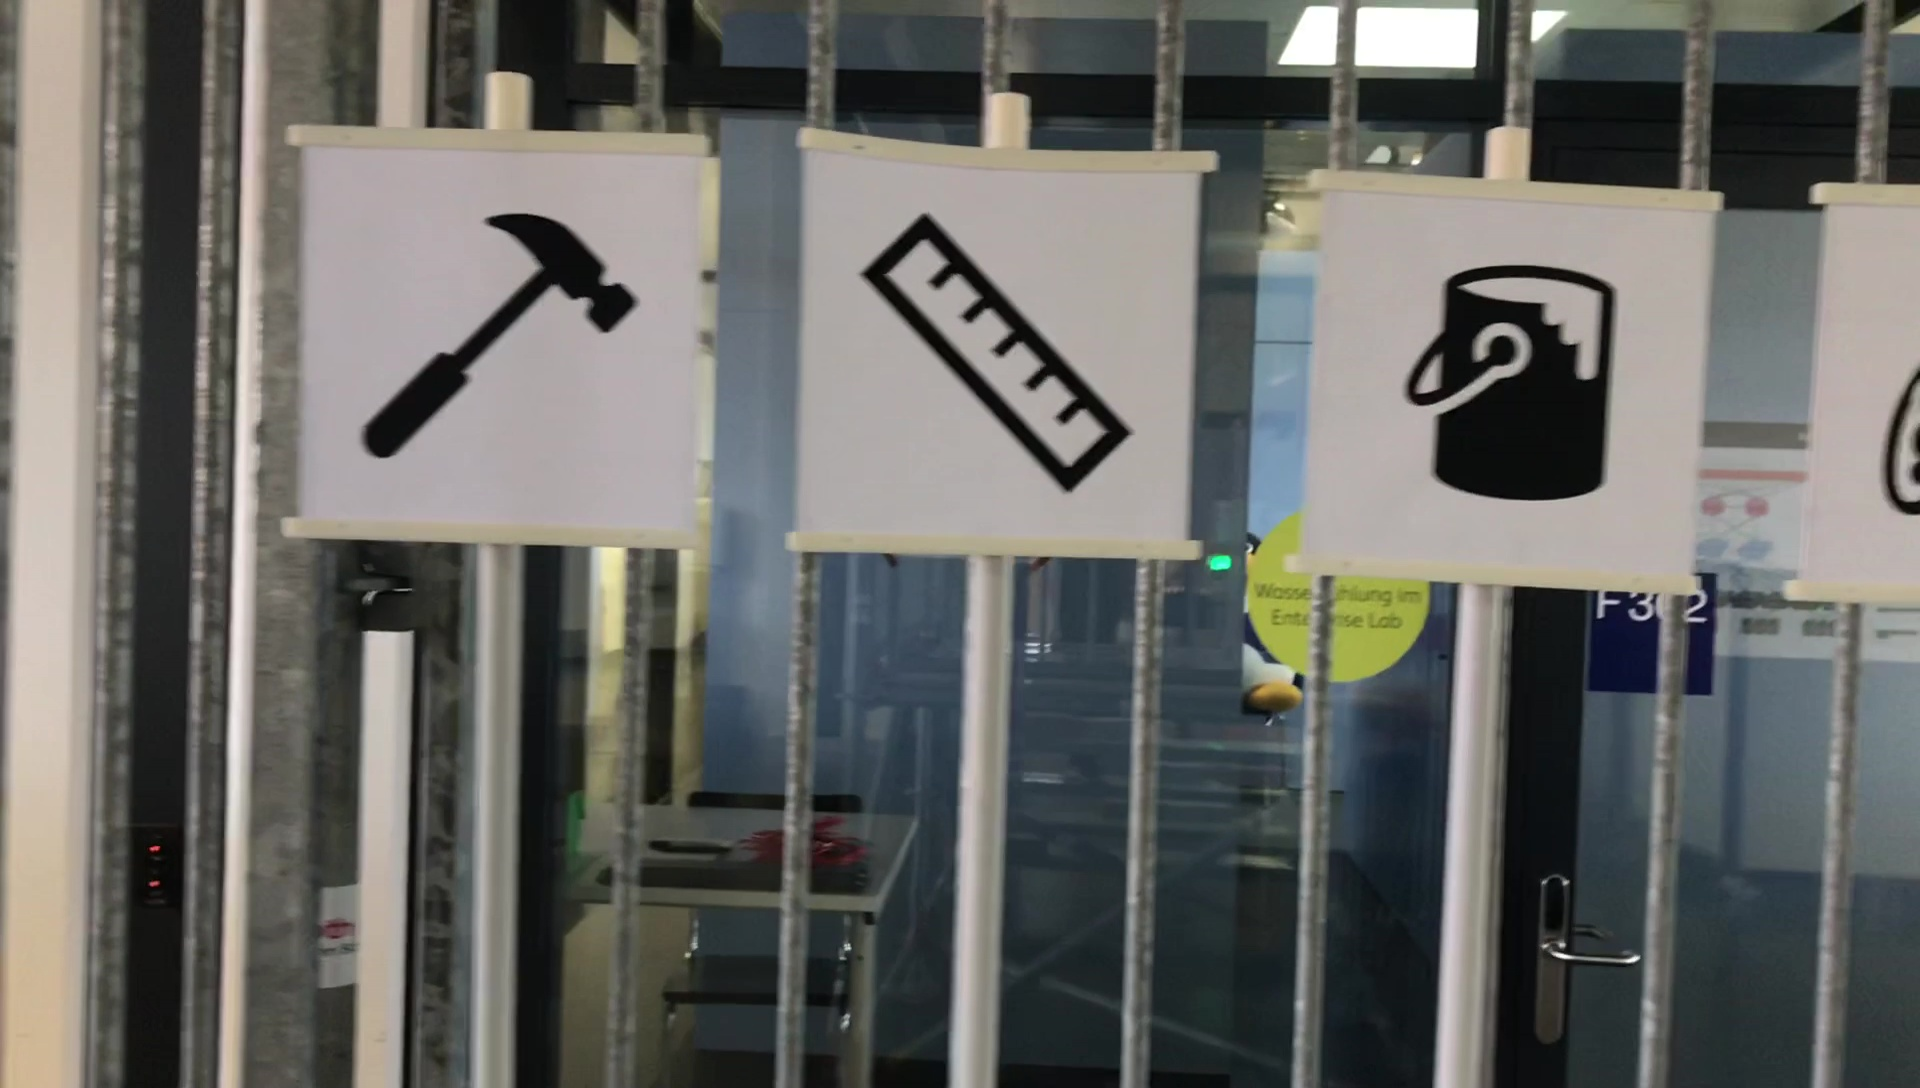bucket: (1400, 265, 1622, 516)
hammer: (351, 203, 650, 460)
ruler: (855, 202, 1145, 501)
